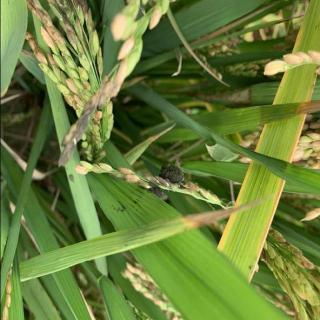Gosong-Palsu: (152, 163, 184, 200)
